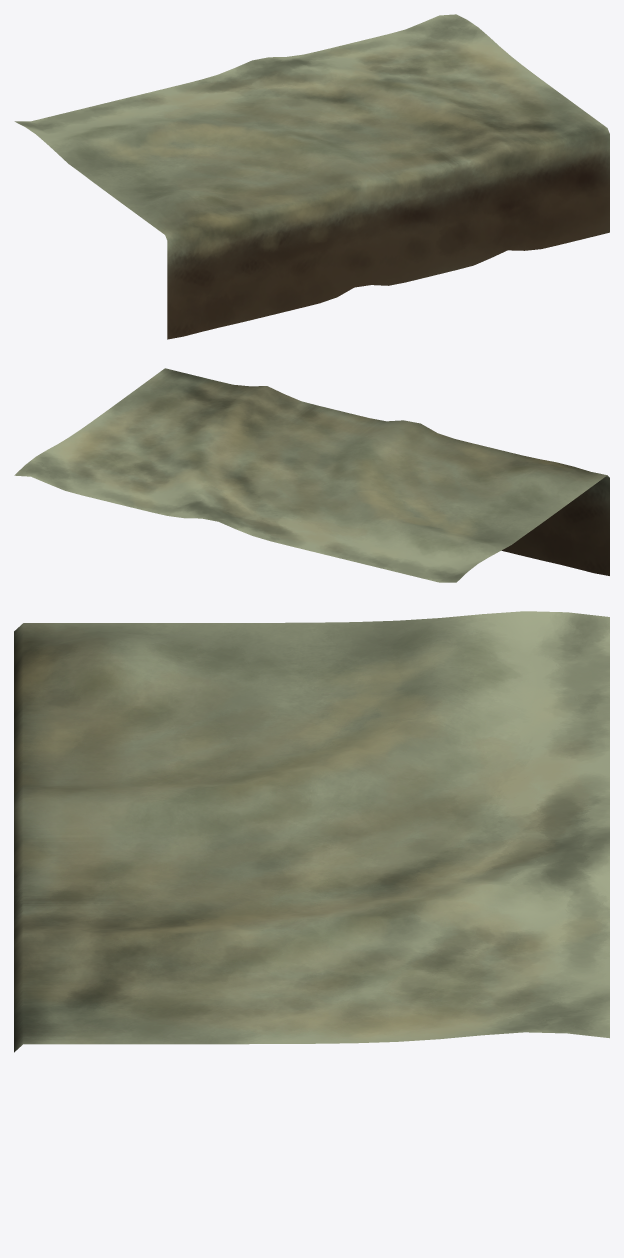
File: suelo_01.glb
3 views of the same model, one above another, from view 1: azimuth 30°, elevation 25°; view 2: azimuth 150°, elevation 25°; view 3: azimuth 270°, elevation 25° (orthographic). The views are drawn at different scales.
Visible parts, largest first — view 1: suelo_01; view 2: suelo_01; view 3: suelo_01.
Boxes of the visible parts, x1,y1,x2,y2 form: suelo_01: (14, 14, 609, 339); suelo_01: (14, 368, 609, 582); suelo_01: (14, 611, 609, 1052).
Bounding box in the file's own units: 10 × 2.42 × 6.
Materials: 1 (1 with a texture image).
